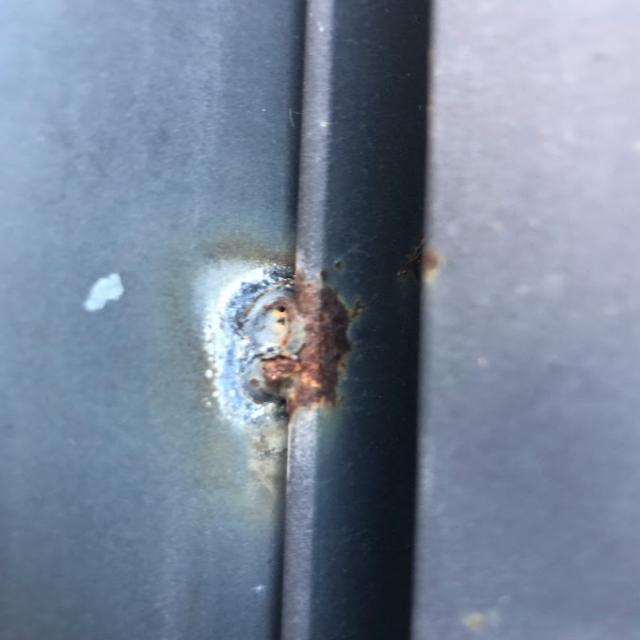Corrosion: (250, 256, 355, 425), (422, 243, 442, 282)
